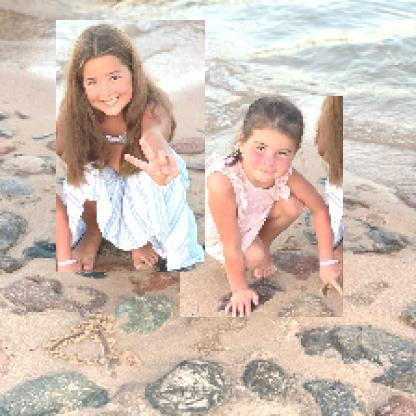child: (57, 21, 207, 274), (181, 97, 345, 319)
